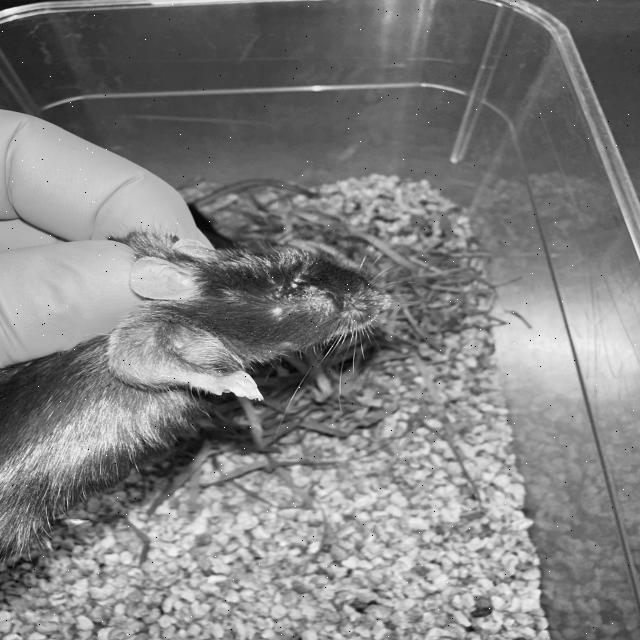Face: (116, 230, 392, 375)
